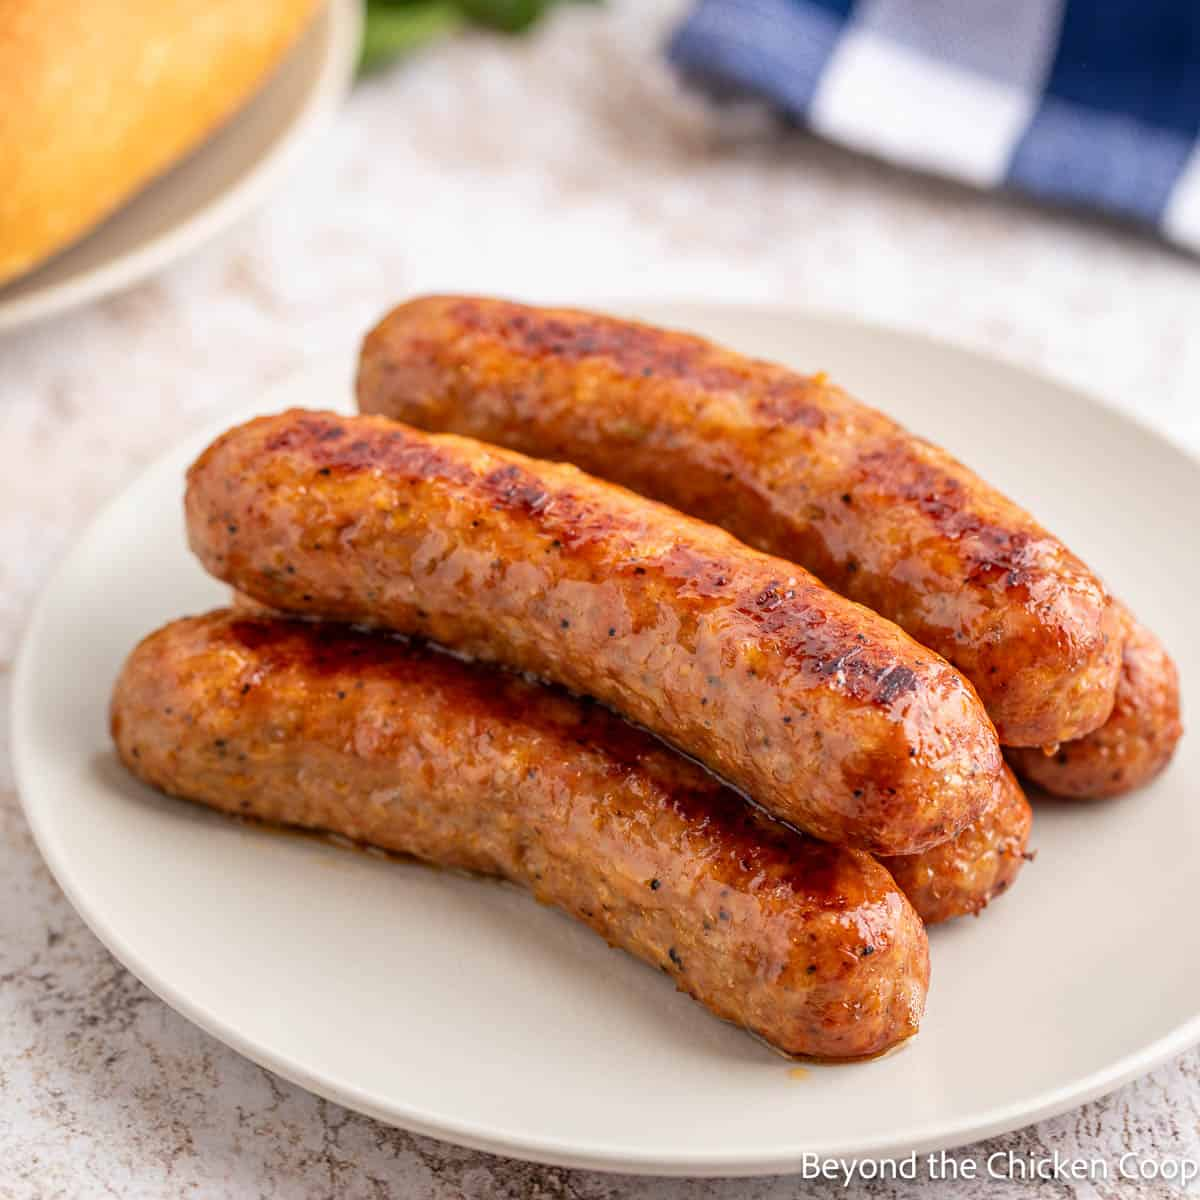sausage: (88, 220, 1200, 1081)
